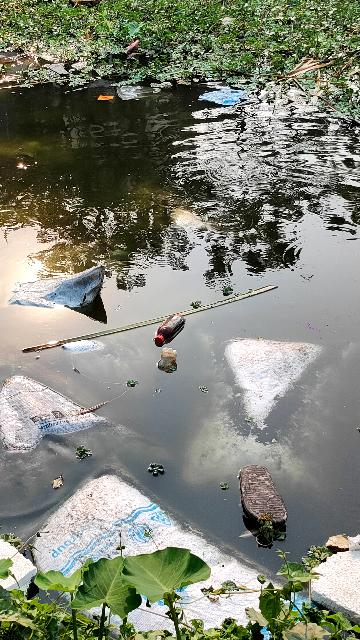bottle: (144, 309, 192, 348)
